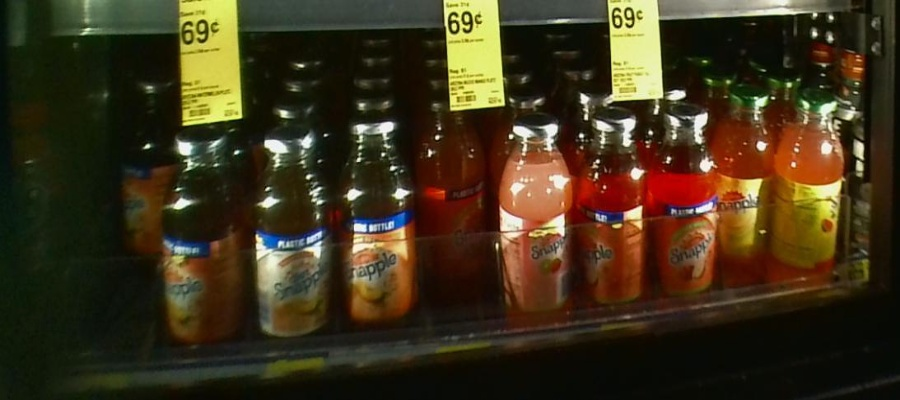bottle: (249, 122, 334, 352), (166, 118, 245, 352), (335, 112, 415, 333), (498, 114, 574, 328), (776, 73, 849, 289), (577, 105, 649, 313), (420, 88, 490, 294), (653, 94, 715, 301), (716, 74, 772, 298), (112, 63, 163, 263)
